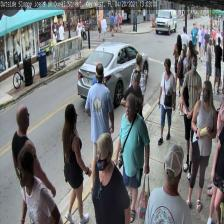person: (144, 144, 192, 224), (128, 52, 147, 143), (177, 43, 189, 114), (212, 37, 223, 93), (186, 40, 199, 86), (173, 34, 182, 96)
